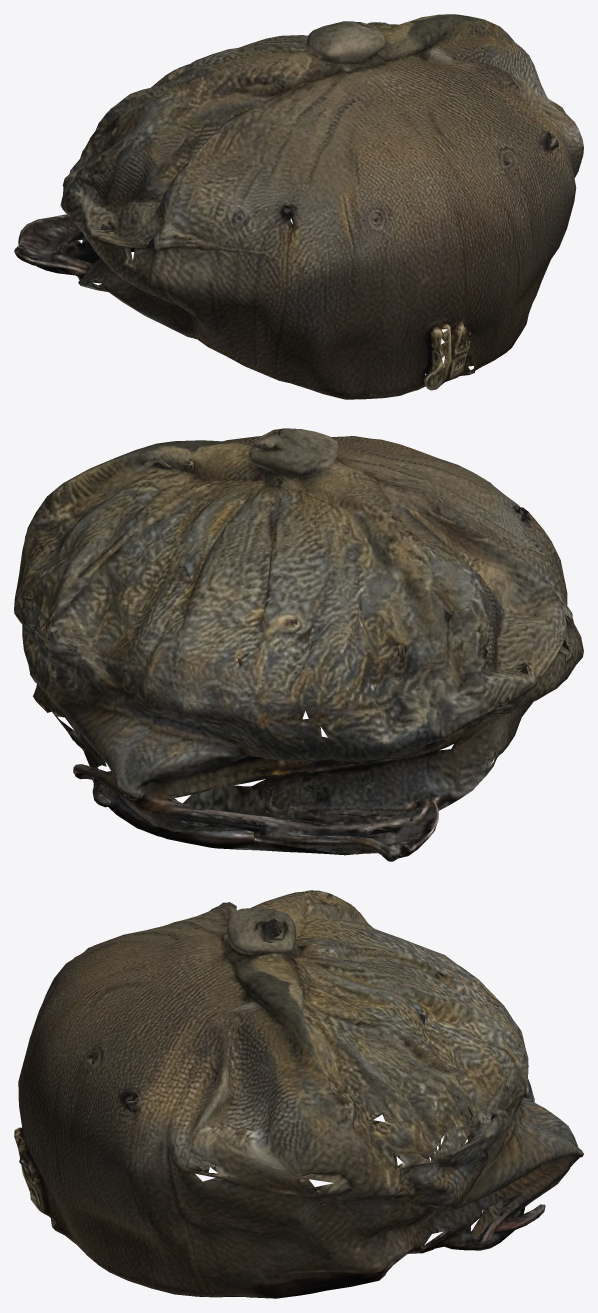
File: prop_sluice_flatcap.glb
3 views of the same model, one above another, from view 1: azimuth 30°, elevation 25°; view 2: azimuth 150°, elevation 25°; view 3: azimuth 270°, elevation 25° (orthographic). The views are drawn at different scales.
Size of the model in its own units: 0.1435 by 0.09 by 0.1471.
Materials: 1 (1 with a texture image).
